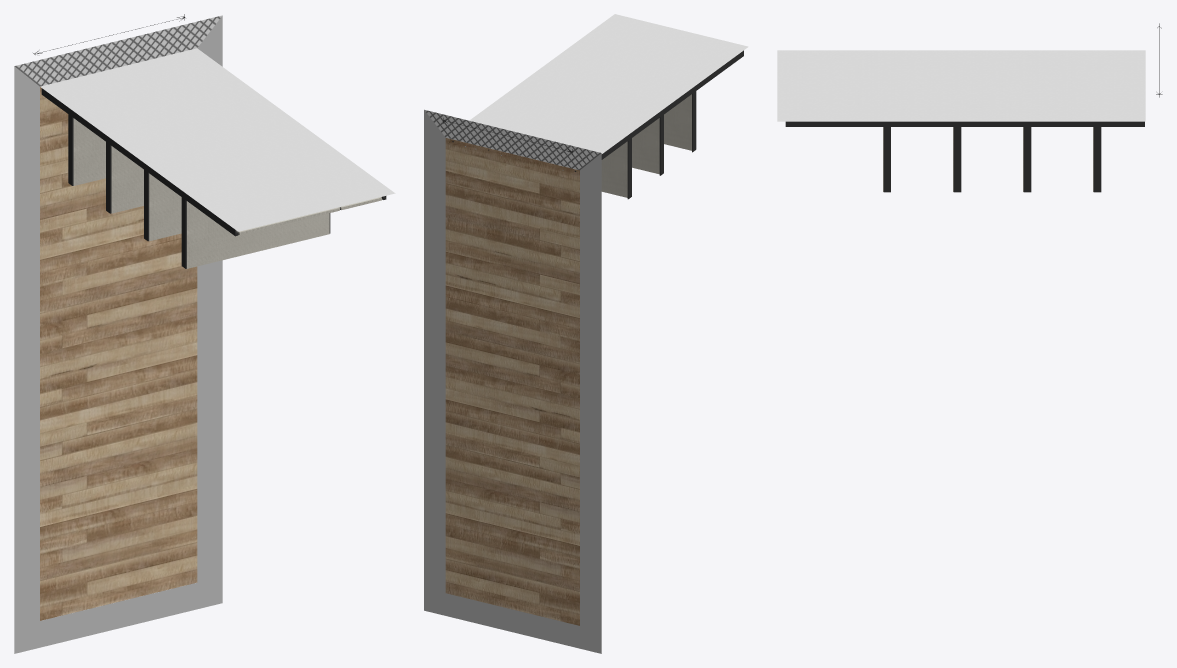
File: C2 Media + D1 Media V3 TI.OBJ
The picture shows the model from 3 angles, left to right: view 1: azimuth 30°, elevation 25°; view 2: azimuth 150°, elevation 25°; view 3: azimuth 270°, elevation 25°; orthographic projection. The views are drawn at different scales.
Visible parts, largest first — view 1: Object_62, Object_63, Object_70, Object_66, Object_68, Object_64, Object_57, Object_42, Object_47, Object_52, Object_2; view 2: Object_62, Object_63, Object_70, Object_66, Object_64, Object_68, Object_52, Object_57, Object_47, Object_2; view 3: Object_63, Object_34, Object_46, Object_51, Object_56.
Part boxes in pixels (x1,y1,x2,y2): Object_62: (40,87,197,620); Object_63: (40,48,395,231); Object_70: (14,66,39,653); Object_66: (197,16,222,602); Object_68: (14,583,222,653); Object_64: (14,15,222,86); Object_57: (186,201,329,268); Object_42: (73,118,105,185); Object_47: (111,146,143,213); Object_52: (149,173,181,241); Object_2: (41,88,238,236); Object_62: (445,138,579,625); Object_63: (469,14,748,153); Object_70: (580,153,601,653); Object_66: (424,110,445,610); Object_64: (424,110,600,170); Object_68: (424,593,601,653); Object_52: (632,118,659,174); Object_57: (664,94,691,150); Object_47: (601,141,627,197); Object_2: (601,50,743,159); Object_63: (777,50,1145,121); Object_34: (785,121,1144,126); Object_46: (1093,127,1101,192); Object_51: (1023,127,1031,192); Object_56: (953,127,961,192).
Size of the model in its own units: 1632 by 4425 by 2817.
Materials: 11 (11 with a texture image).
